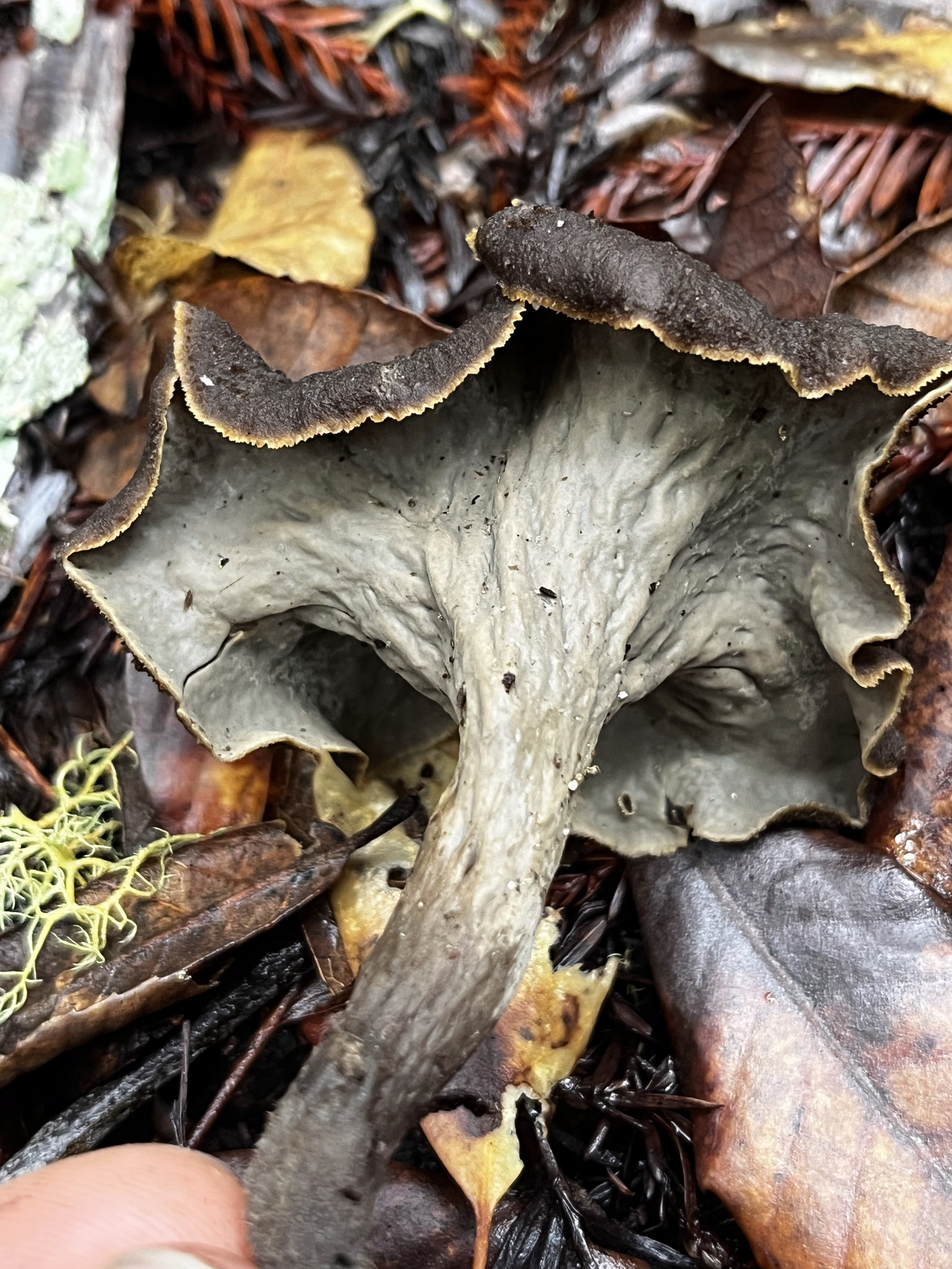stem: (249, 604, 624, 1268)
underside: (69, 322, 907, 856)
